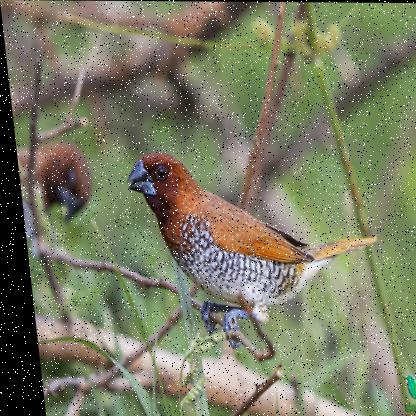Burung: (119, 152, 381, 349)
